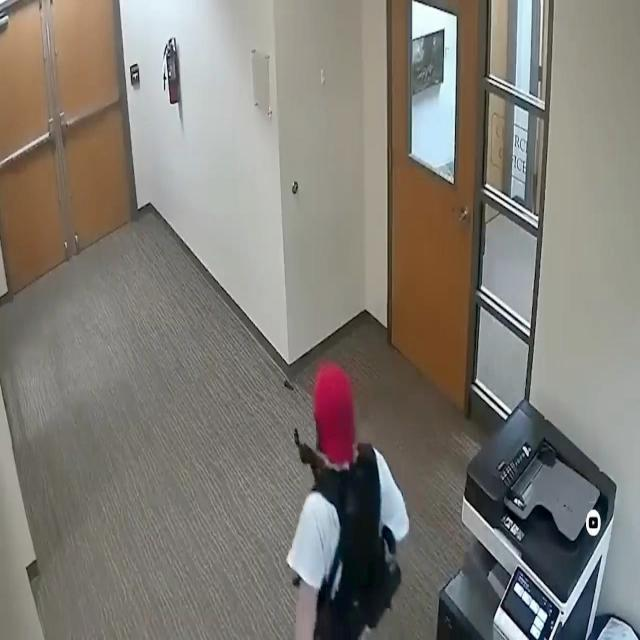gun: (289, 361, 409, 640), (294, 416, 330, 490)
